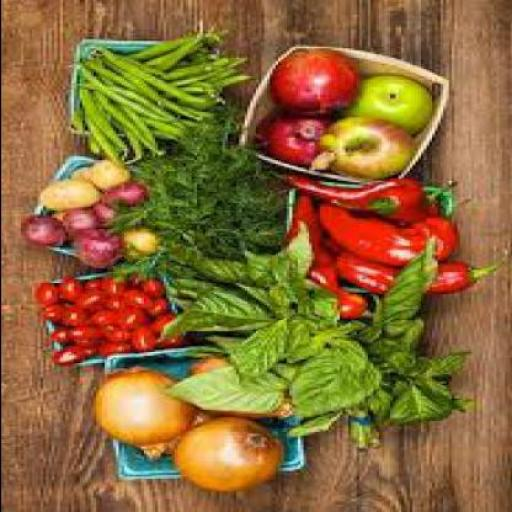biodegradable: (282, 188, 375, 320), (319, 235, 498, 294), (313, 198, 465, 264), (81, 363, 185, 458), (168, 413, 280, 490), (372, 234, 428, 375), (89, 45, 201, 104), (313, 115, 414, 179), (266, 46, 358, 116), (90, 54, 193, 116), (338, 70, 434, 134), (316, 179, 454, 223), (185, 356, 288, 414), (282, 350, 378, 412), (70, 60, 166, 121), (157, 365, 285, 409), (252, 106, 335, 166), (207, 176, 283, 240), (263, 168, 403, 201), (204, 333, 280, 389), (87, 91, 153, 153), (374, 374, 454, 422), (137, 17, 201, 73), (179, 286, 263, 328), (224, 314, 282, 372), (73, 86, 123, 153), (159, 108, 232, 153), (131, 152, 252, 178), (126, 28, 222, 60), (243, 251, 300, 302), (168, 225, 252, 257), (272, 219, 308, 283), (143, 178, 213, 210), (174, 248, 244, 280), (106, 84, 170, 119), (109, 207, 207, 229), (280, 312, 330, 354), (160, 54, 238, 80), (64, 227, 114, 267), (78, 106, 115, 160), (36, 174, 98, 206), (160, 410, 204, 454), (76, 57, 128, 91), (118, 106, 154, 149), (17, 214, 64, 244), (343, 407, 378, 447), (282, 411, 336, 436), (422, 348, 464, 378), (114, 225, 154, 255), (98, 181, 142, 208), (230, 282, 272, 309), (86, 158, 123, 188), (165, 276, 215, 298), (333, 317, 375, 343), (299, 291, 330, 326), (58, 206, 98, 231), (157, 263, 201, 282), (50, 345, 90, 364), (92, 322, 130, 341), (140, 115, 179, 132), (199, 73, 249, 86), (115, 125, 137, 154), (129, 324, 154, 348), (190, 68, 238, 80), (92, 338, 123, 356), (56, 273, 78, 298), (70, 287, 97, 307), (31, 282, 55, 304), (171, 95, 218, 106), (135, 276, 162, 294), (80, 126, 98, 151), (121, 287, 145, 305), (90, 202, 114, 220), (445, 393, 469, 411), (118, 310, 140, 329), (145, 311, 165, 331), (66, 104, 82, 129), (145, 128, 176, 140), (167, 84, 202, 94), (154, 328, 173, 346), (78, 307, 98, 324), (45, 326, 67, 341), (67, 326, 89, 341), (39, 302, 59, 318), (62, 304, 78, 324), (145, 296, 165, 311), (101, 278, 121, 292), (98, 295, 117, 307), (78, 278, 98, 288), (67, 166, 84, 176), (100, 309, 115, 320)
